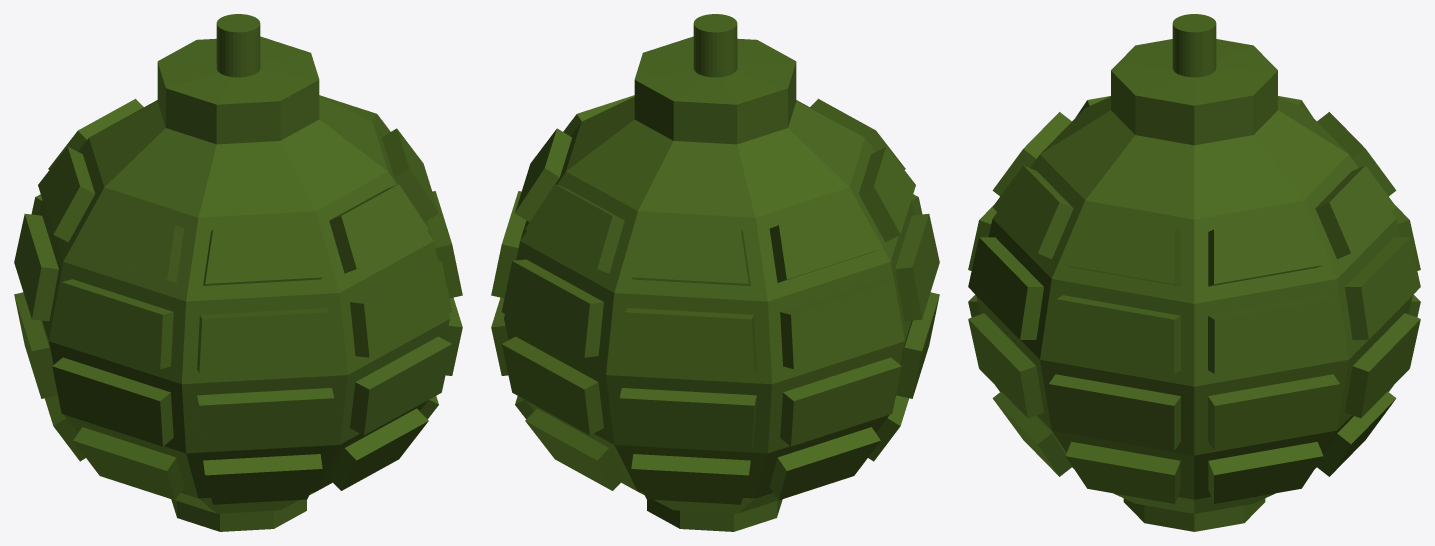
Rendered from Grenade.dae.
The picture shows the model from 3 angles, left to right: view 1: azimuth 30°, elevation 25°; view 2: azimuth 150°, elevation 25°; view 3: azimuth 270°, elevation 25°; orthographic projection.
Parts seen in each view (by area): view 1: Sphere; view 2: Sphere; view 3: Sphere.
Boxes of the visible parts, bbox=[...] form: Sphere: bbox=[14, 14, 462, 531]; Sphere: bbox=[491, 14, 939, 531]; Sphere: bbox=[968, 14, 1420, 531].
Size of the model in its own units: 2.07 by 2.07 by 2.43.
